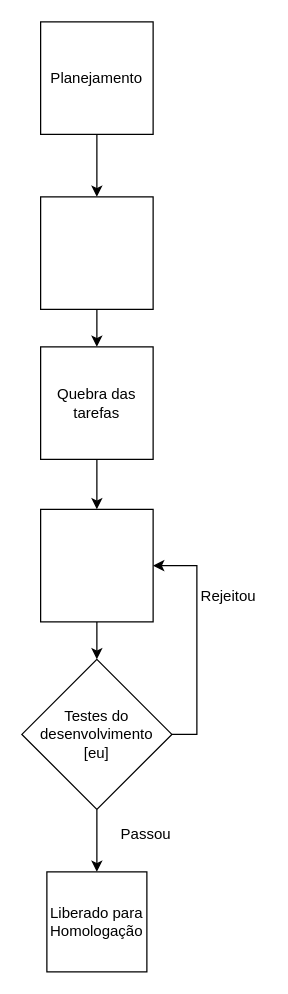
This 288x994 diagram has some shape labels left out. Each missing label, with the centre of its shape:
Criação das histórias: point (96, 252)
Desenvolvimento: point (96, 565)
